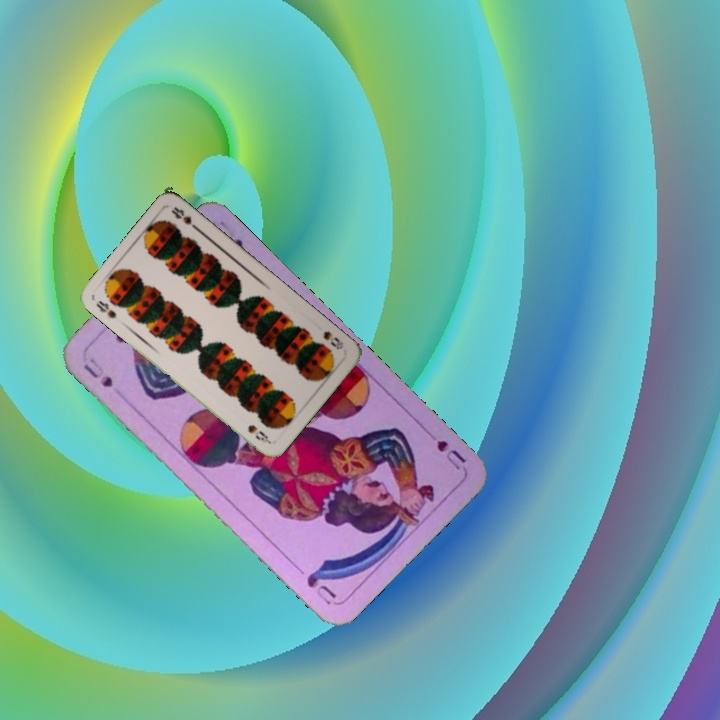S8: (319, 327, 346, 352), (92, 296, 119, 321)
SU: (79, 354, 116, 390), (432, 436, 468, 473)
